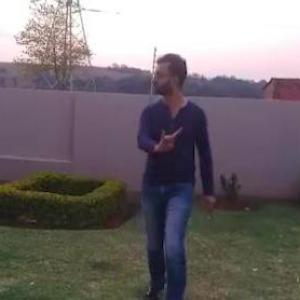takeoff-hand: (156, 117, 183, 153)
